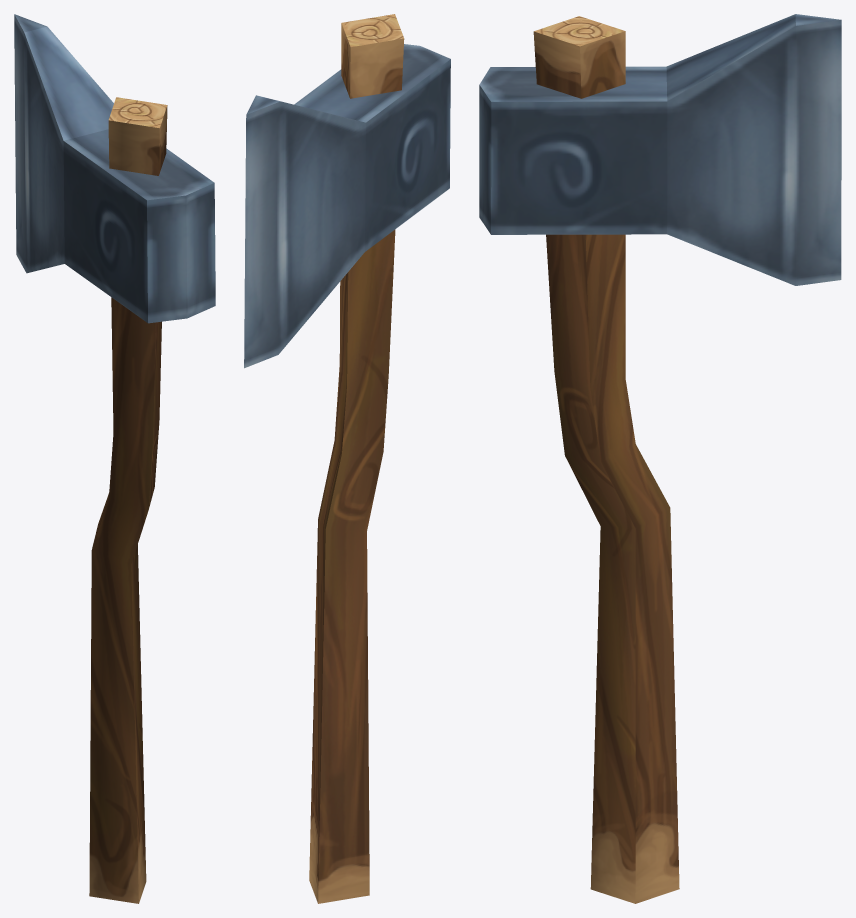
File: axe_01.fbx
The picture shows the model from 3 angles, left to right: view 1: azimuth 30°, elevation 25°; view 2: azimuth 150°, elevation 25°; view 3: azimuth 270°, elevation 25°; orthographic projection. The views are drawn at different scales.
Visible parts, largest first — view 1: axe_01; view 2: axe_01; view 3: axe_01.
Part boxes in pixels (x1,y1,x2,y2): axe_01: (14, 14, 215, 903); axe_01: (244, 14, 450, 903); axe_01: (479, 14, 841, 903).
Size of the model in its own units: 0.282 by 3.08 by 1.17.
